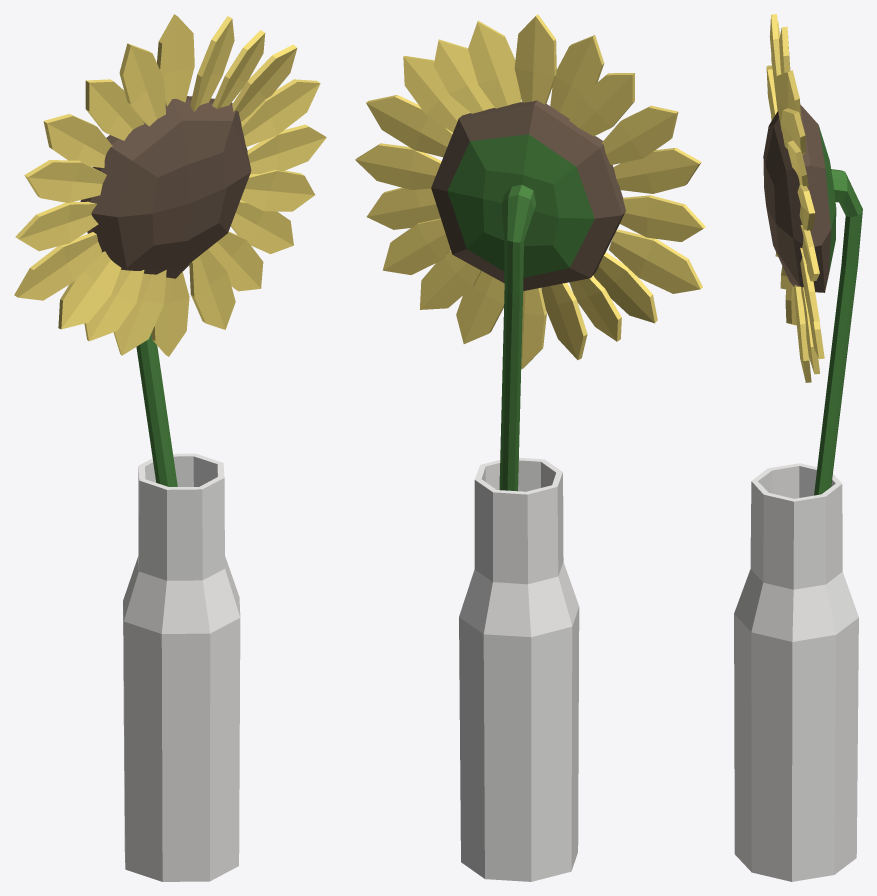
Rendered from Vase_with_sunflower.fbx.
3 renders of one model, left to right at view 1: azimuth 30°, elevation 25°; view 2: azimuth 150°, elevation 25°; view 3: azimuth 270°, elevation 25°, orthographic. The views are drawn at different scales.
Parts seen in each view (by area): view 1: Vase_with_sunflower; view 2: Vase_with_sunflower; view 3: Vase_with_sunflower.
Part boxes in pixels (x1,y1,x2,y2): Vase_with_sunflower: (14,14,326,881); Vase_with_sunflower: (355,14,705,881); Vase_with_sunflower: (734,14,862,881).
Bounding box in the file's own units: 27.92 × 9.72 × 68.74.
